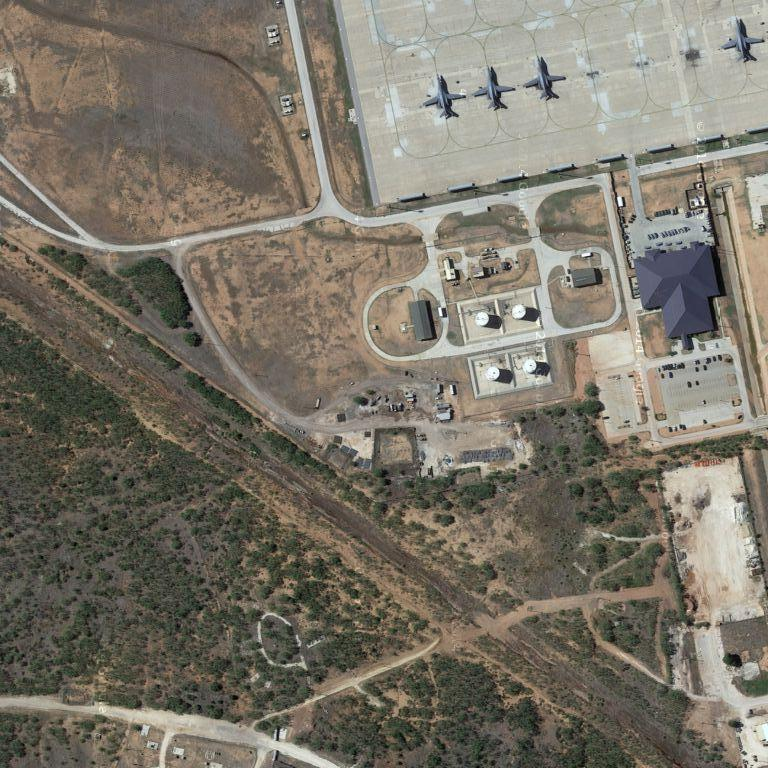B-1B: (718, 17, 765, 71), (419, 69, 465, 124), (521, 52, 567, 106), (471, 62, 516, 117)
